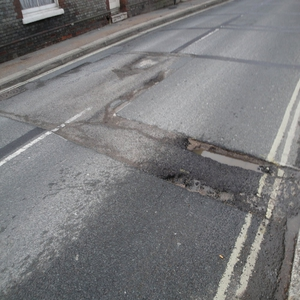pothole: (182, 135, 277, 178), (162, 169, 238, 206)
